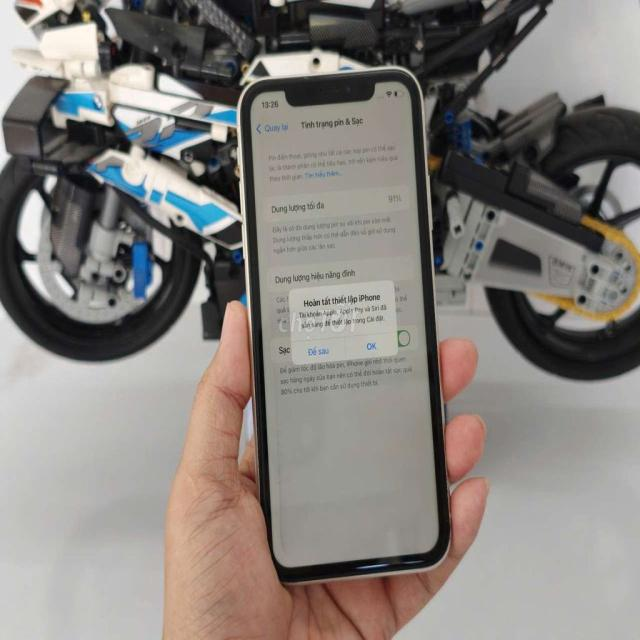scratch: (288, 58, 354, 94)
